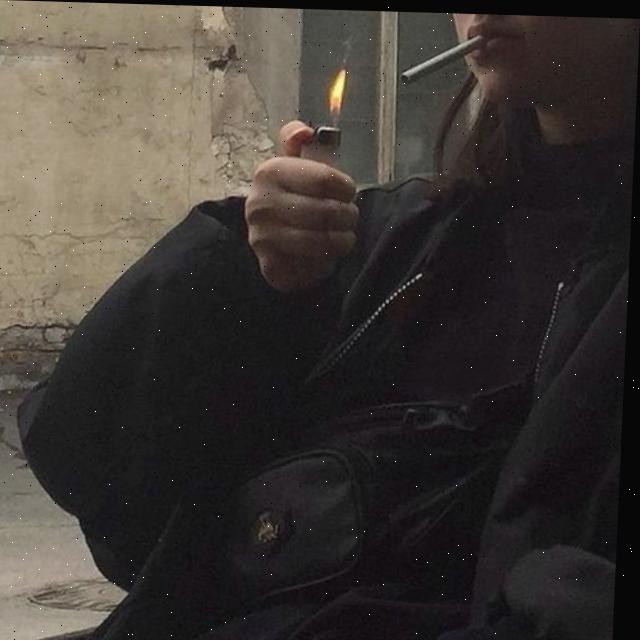cigarette: (401, 30, 488, 83)
